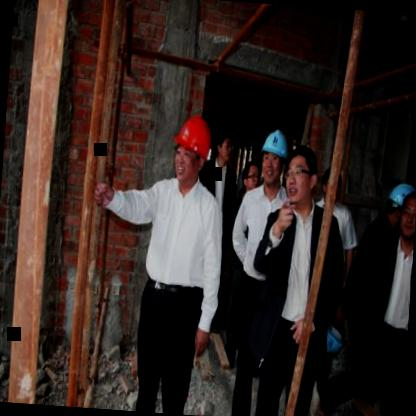head: (283, 142, 320, 208), (394, 185, 416, 242), (238, 158, 264, 200), (214, 126, 236, 172)
helmet: (171, 112, 214, 190), (256, 126, 291, 190), (380, 180, 410, 235), (391, 185, 416, 241)
